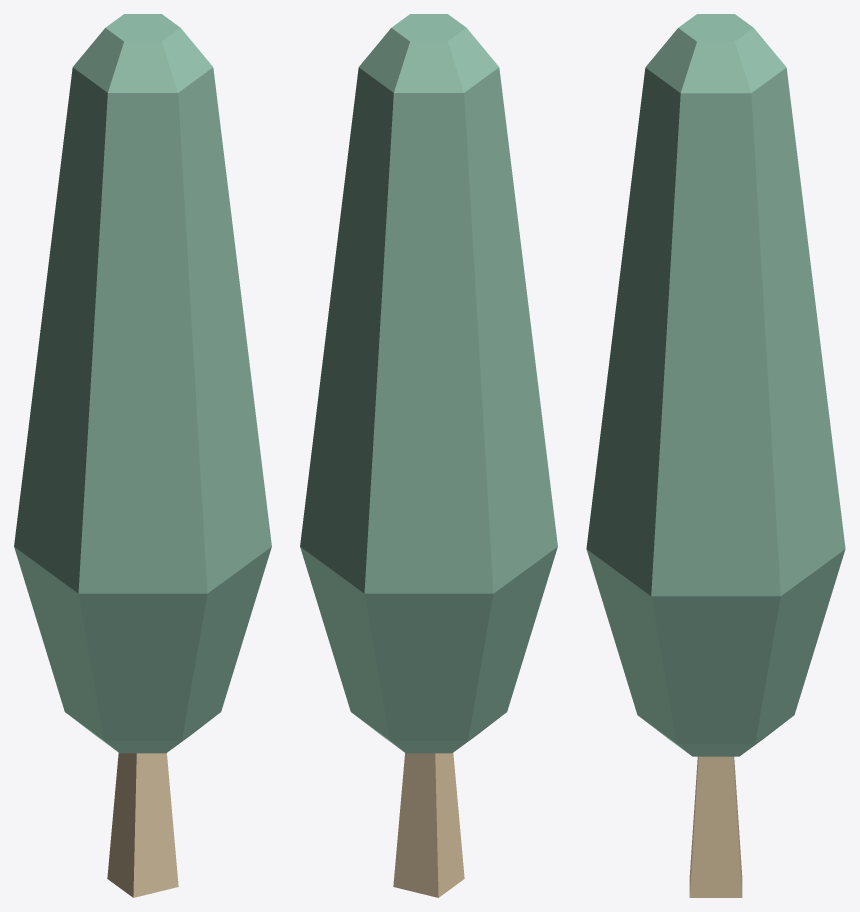
File: treeSmall.glb
3 views of the same model, side by side, from view 1: azimuth 30°, elevation 25°; view 2: azimuth 150°, elevation 25°; view 3: azimuth 270°, elevation 25° (orthographic).
Parts seen in each view (by area): view 1: treeSmall(Clone); view 2: treeSmall(Clone); view 3: treeSmall(Clone).
Part boxes in pixels (x1=…): treeSmall(Clone): x1=14, y1=14, x2=271, y2=897; treeSmall(Clone): x1=300, y1=14, x2=557, y2=897; treeSmall(Clone): x1=586, y1=14, x2=845, y2=897.
Size of the model in its own units: 0.2533 by 1.07 by 0.2925.
1 material, 1 textured.
